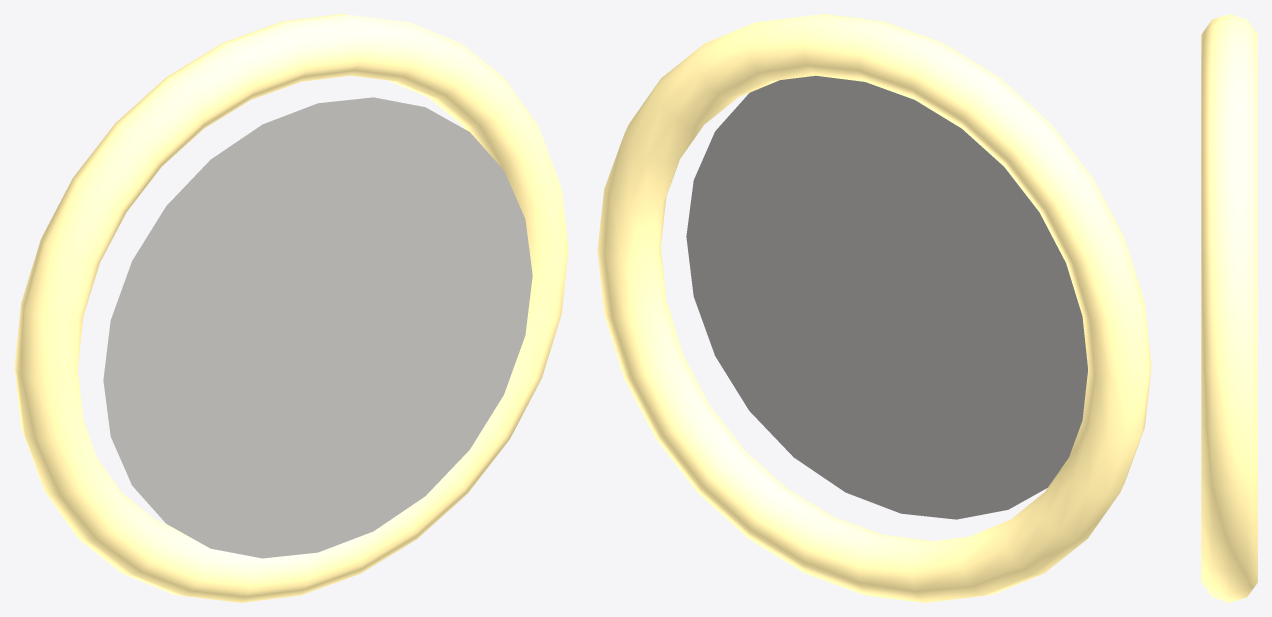
Rendered from monocle_gold.glb.
3 renders of one model, left to right at view 1: azimuth 30°, elevation 25°; view 2: azimuth 150°, elevation 25°; view 3: azimuth 270°, elevation 25°, orthographic. The views are drawn at different scales.
Parts seen in each view (by area): view 1: Circle, Torus; view 2: Circle, Torus; view 3: Torus.
Boxes of the visible parts, left/top/right/bottom form: Circle: left=103, top=97, right=532, bottom=558; Torus: left=14, top=14, right=568, bottom=602; Circle: left=686, top=75, right=1087, bottom=519; Torus: left=597, top=14, right=1151, bottom=602; Torus: left=1201, top=14, right=1257, bottom=602.
Size of the model in its own units: 0.356 by 0.356 by 0.0471.
